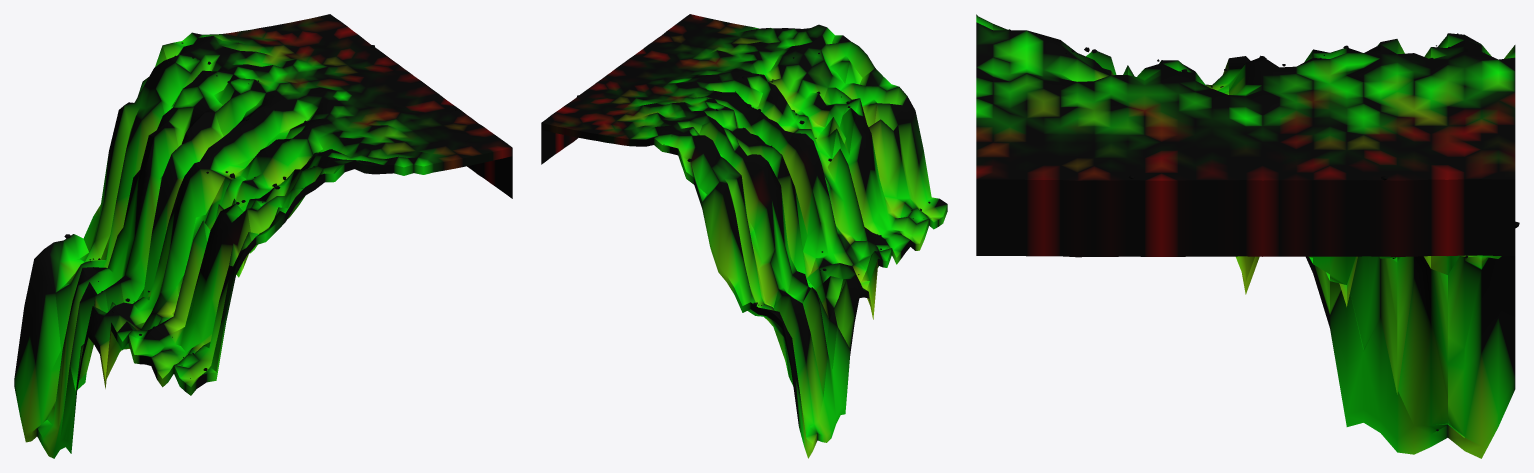
File: Terrain_04_00.fbx
3 renders of one model, left to right at view 1: azimuth 30°, elevation 25°; view 2: azimuth 150°, elevation 25°; view 3: azimuth 270°, elevation 25°, orthographic. The views are drawn at different scales.
Parts seen in each view (by area): view 1: Terrain_04_00_LOD0; view 2: Terrain_04_00_LOD0; view 3: Terrain_04_00_LOD0.
Boxes of the visible parts, x1,y1,x2,y2 form: Terrain_04_00_LOD0: (14, 14, 512, 458); Terrain_04_00_LOD0: (541, 14, 947, 458); Terrain_04_00_LOD0: (976, 14, 1519, 458).
Size of what is drawn, in the model's own units: 385 by 428 by 387.
